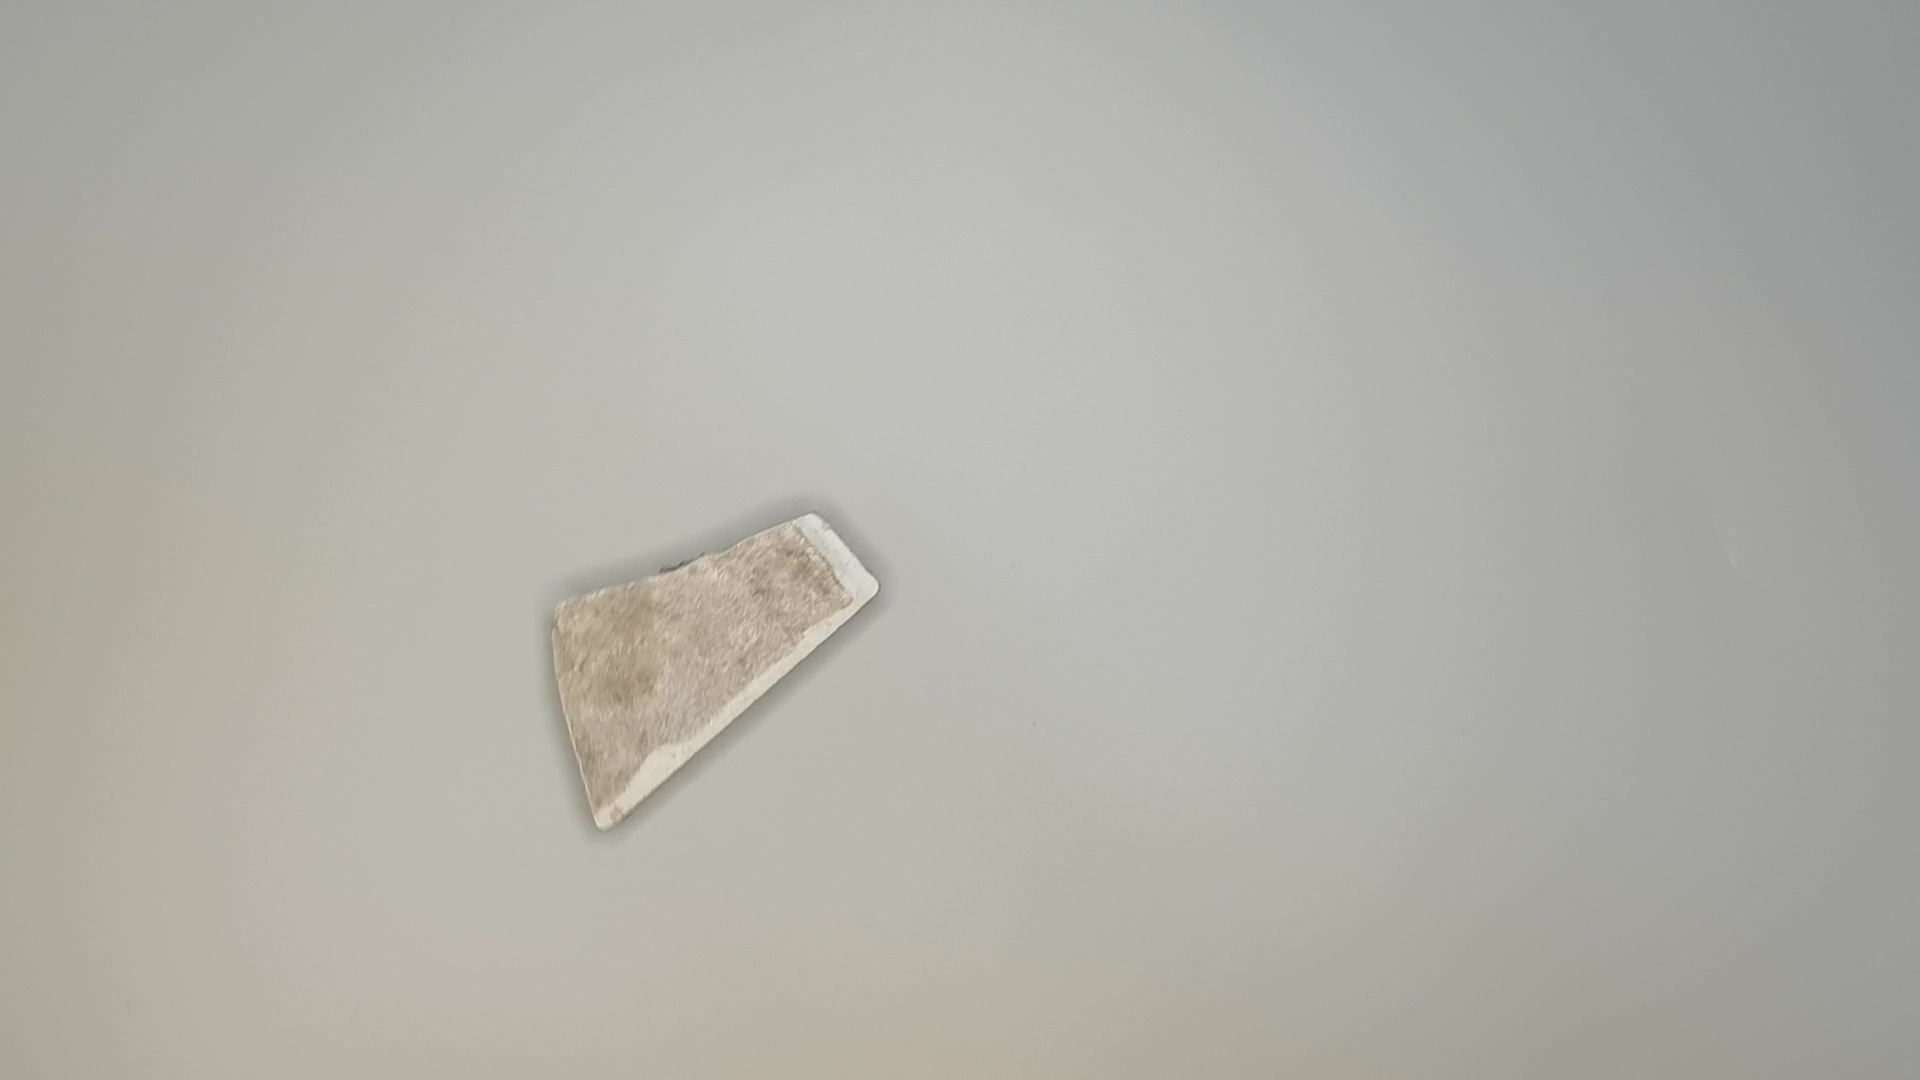ceramic: (545, 505, 885, 841)
